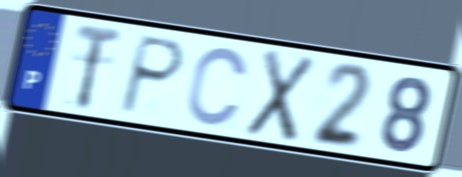2: (312, 61, 376, 151)
8: (380, 74, 433, 155)
C: (184, 44, 251, 129)
P: (116, 32, 189, 117)
T: (73, 20, 124, 112)
X: (243, 46, 319, 146)
